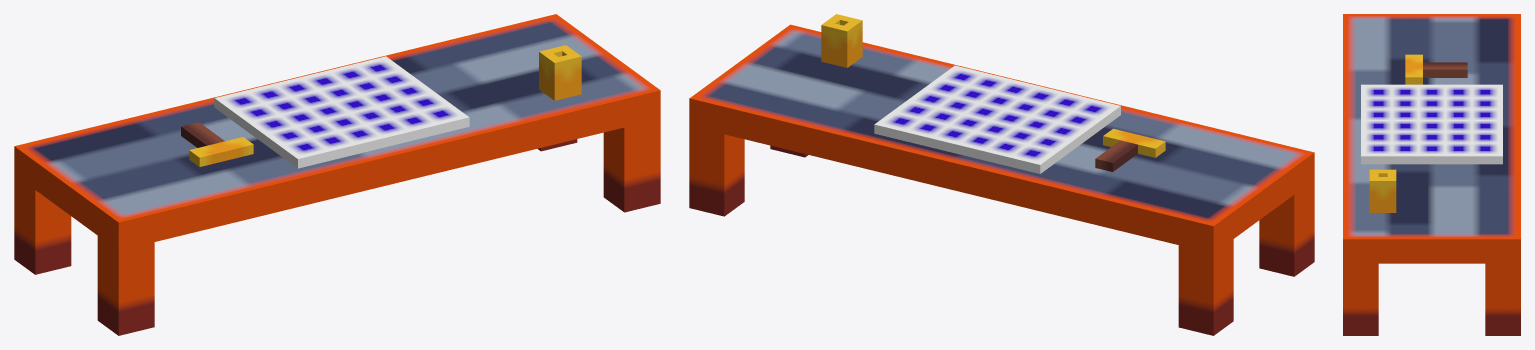
The model's file is BobTable.fbx.
The picture shows the model from 3 angles, left to right: view 1: azimuth 30°, elevation 25°; view 2: azimuth 150°, elevation 25°; view 3: azimuth 270°, elevation 25°; orthographic projection. The views are drawn at different scales.
Visible parts, largest first — view 1: BobTable; view 2: BobTable; view 3: BobTable.
Part boxes in pixels (x1,y1,x2,y2): BobTable: (14,14,660,335); BobTable: (689,14,1314,335); BobTable: (1343,14,1520,335).
Bounding box in the file's own units: 60 × 16 × 20.
1 material, 1 textured.
